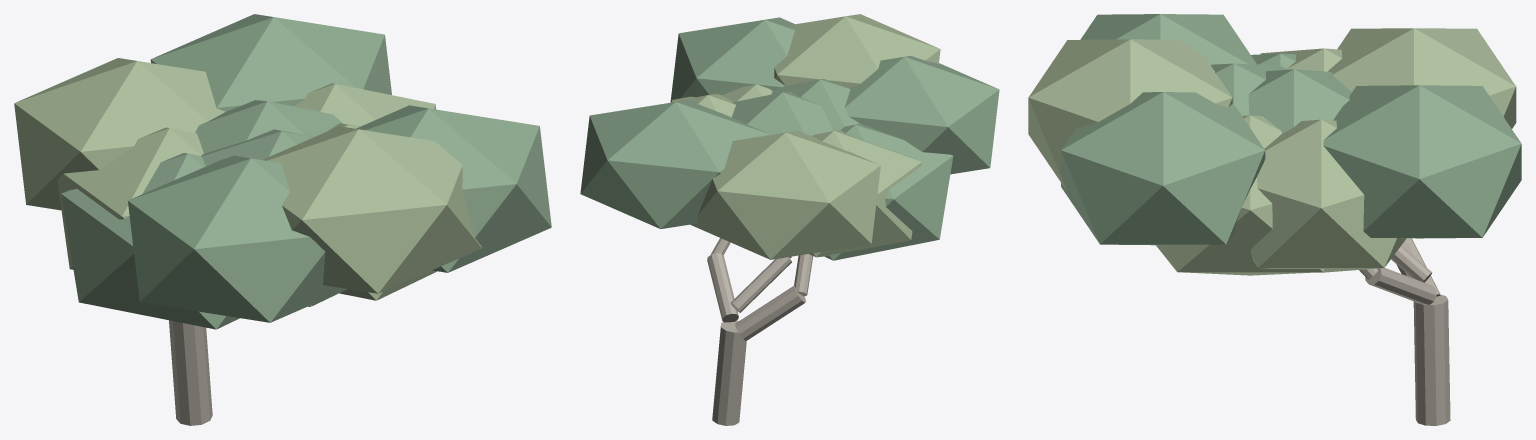
Rendered from plane-tree-massing-c.glb.
3 renders of one model, left to right at view 1: azimuth 30°, elevation 25°; view 2: azimuth 150°, elevation 25°; view 3: azimuth 270°, elevation 25°, orthographic. The views are drawn at different scales.
Visible parts, largest first — view 1: plane-tree-massing-c; view 2: plane-tree-massing-c; view 3: plane-tree-massing-c.
Part boxes in pixels (left/top/right/bottom): plane-tree-massing-c: left=14, top=14, right=551, bottom=425; plane-tree-massing-c: left=580, top=14, right=999, bottom=425; plane-tree-massing-c: left=1028, top=14, right=1521, bottom=425.
Size of the model in its own units: 8.07 by 7.78 by 9.04.
